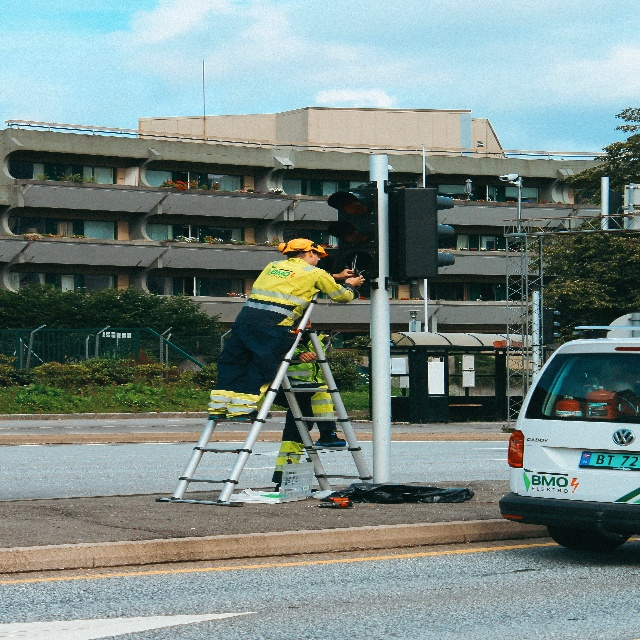Sin_guantes: (345, 275, 365, 287), (297, 352, 316, 363), (340, 268, 355, 279)
